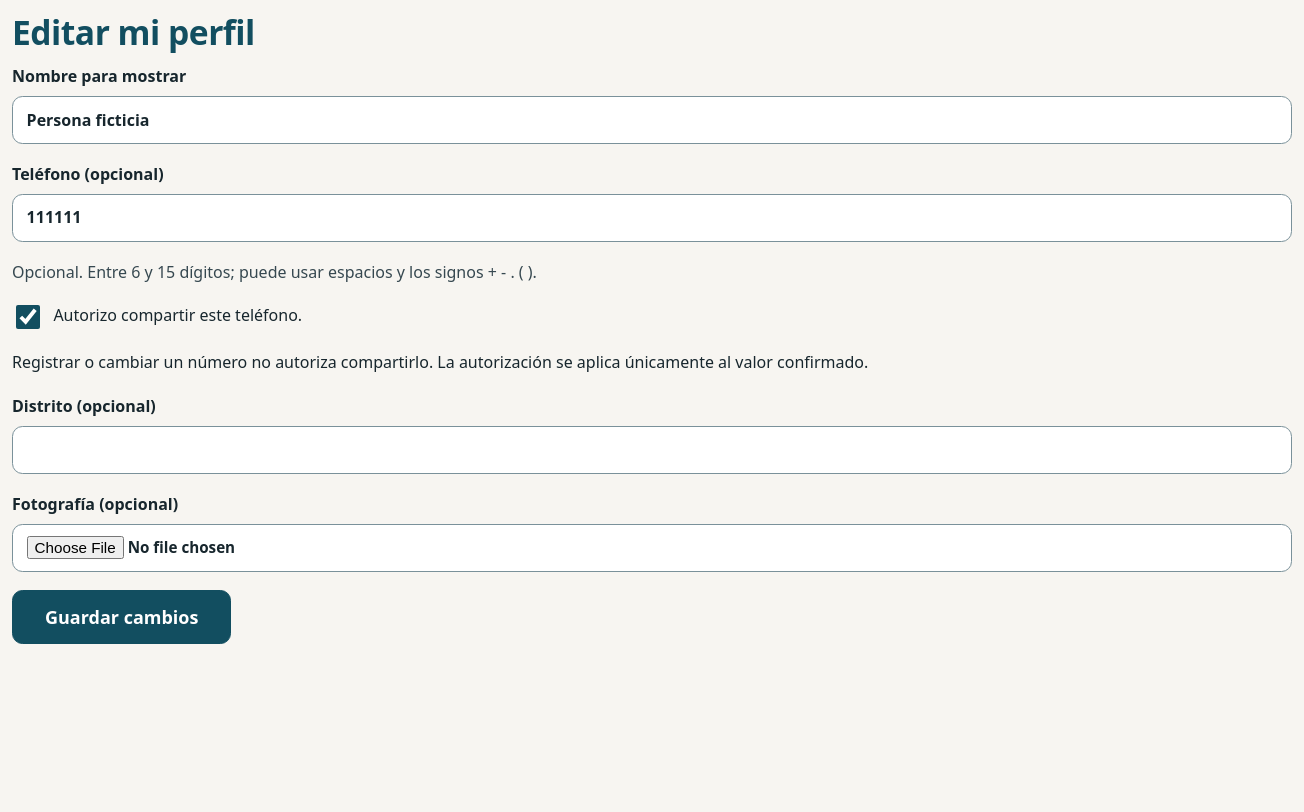
Test: CA-PER-07 teléfono 12345 se rechaza con su motivo
The width and height of the screenshot is (1304, 812).
Replace the text in the field labelled "Teléfono (opcional)" with "12345" at (652, 218), box [12,194,1292,242]
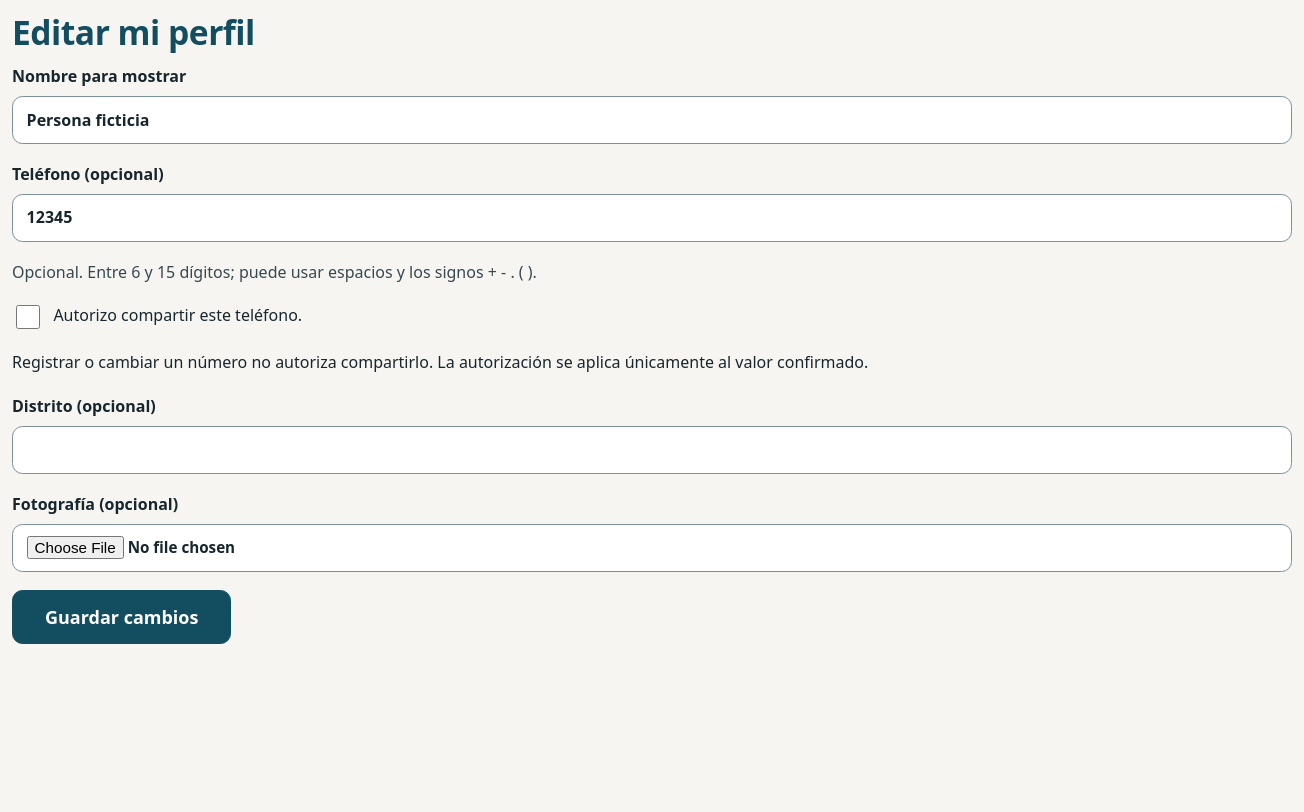
Click the button "Guardar cambios" at (122, 617), box [12,590,231,644]
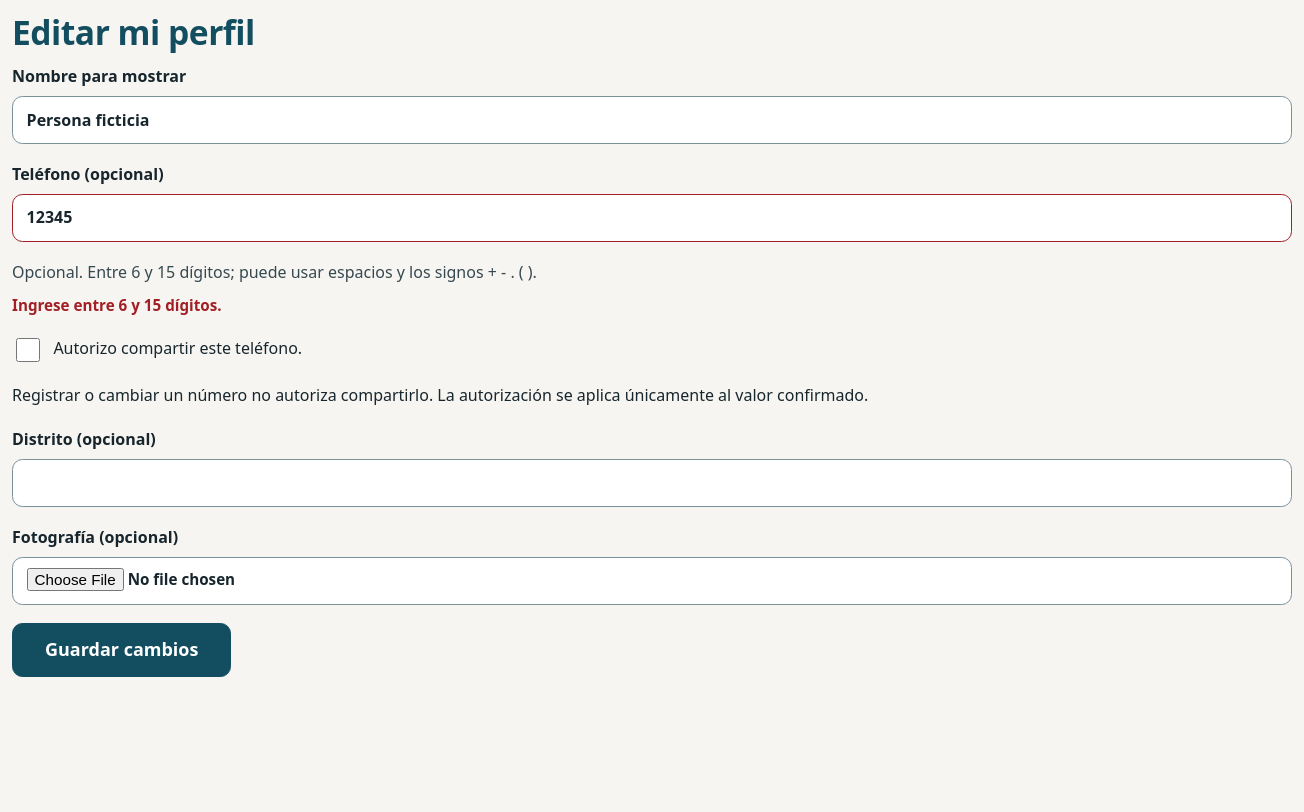
Check: the text "Ingrese entre 6 y 15 dígitos." is shown, box [12,296,222,316]
